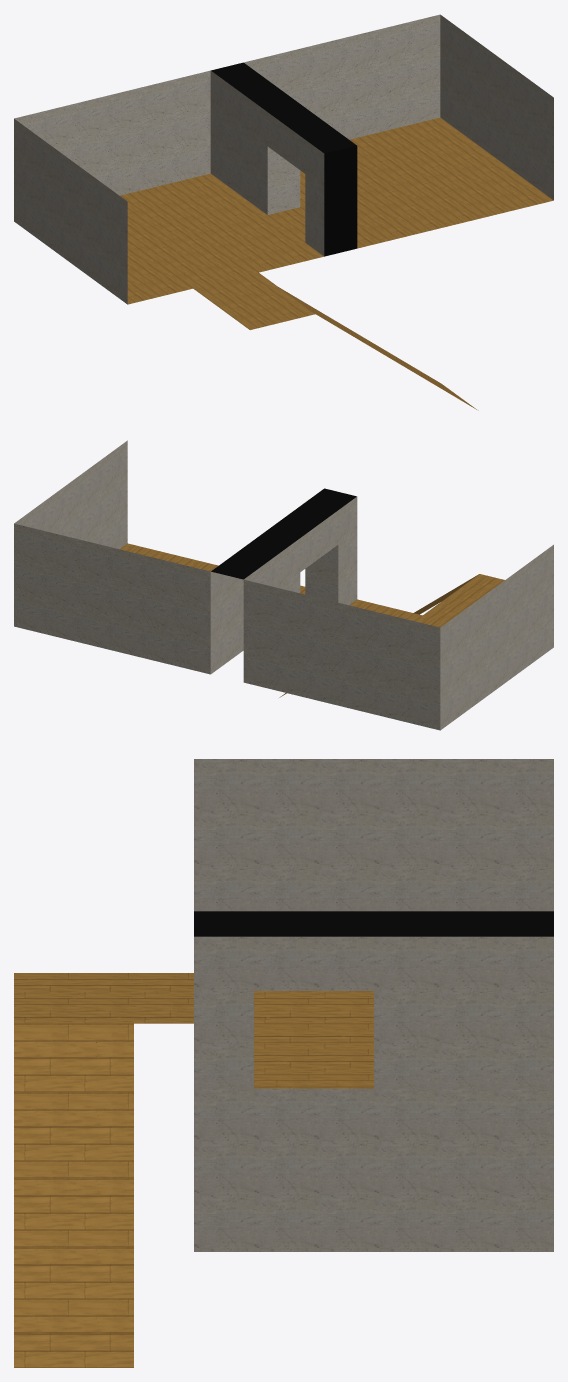
File: interior_upstairs.glb
3 renders of one model, top to bottom at view 1: azimuth 30°, elevation 25°; view 2: azimuth 150°, elevation 25°; view 3: azimuth 270°, elevation 25°, orthographic. The views are drawn at different scales.
Parts seen in each view (by area): view 1: floor2_room1_walls-col, floor2_room2_walls-col, floor2_room2_floor-col, floor2_room1_floor-col, floor2_interior-col; view 2: floor2_room1_walls-col, floor2_room2_walls-col, floor2_interior-col, floor2_room2_floor-col, floor2_room1_floor-col; view 3: floor2_room2_walls-col, floor2_interior-col, floor2_room1_walls-col, floor2_room1_floor-col.
Boxes of the visible parts, x1,y1,x2,y2 form: floor2_room1_walls-col: [14, 70, 324, 304]; floor2_room2_walls-col: [244, 14, 553, 200]; floor2_room2_floor-col: [300, 117, 553, 248]; floor2_room1_floor-col: [120, 173, 323, 304]; floor2_interior-col: [193, 62, 478, 410]; floor2_room1_walls-col: [243, 496, 553, 730]; floor2_room2_walls-col: [14, 440, 243, 674]; floor2_interior-col: [211, 488, 504, 697]; floor2_room2_floor-col: [120, 543, 305, 594]; floor2_room1_floor-col: [349, 599, 447, 627]; floor2_room2_walls-col: [194, 936, 553, 1251]; floor2_interior-col: [14, 911, 553, 1367]; floor2_room1_walls-col: [194, 759, 553, 911]; floor2_room1_floor-col: [254, 991, 373, 1074].
Size of what is drawn, in the model's own units: 13 by 7 by 9.
3 materials, 2 textured.
